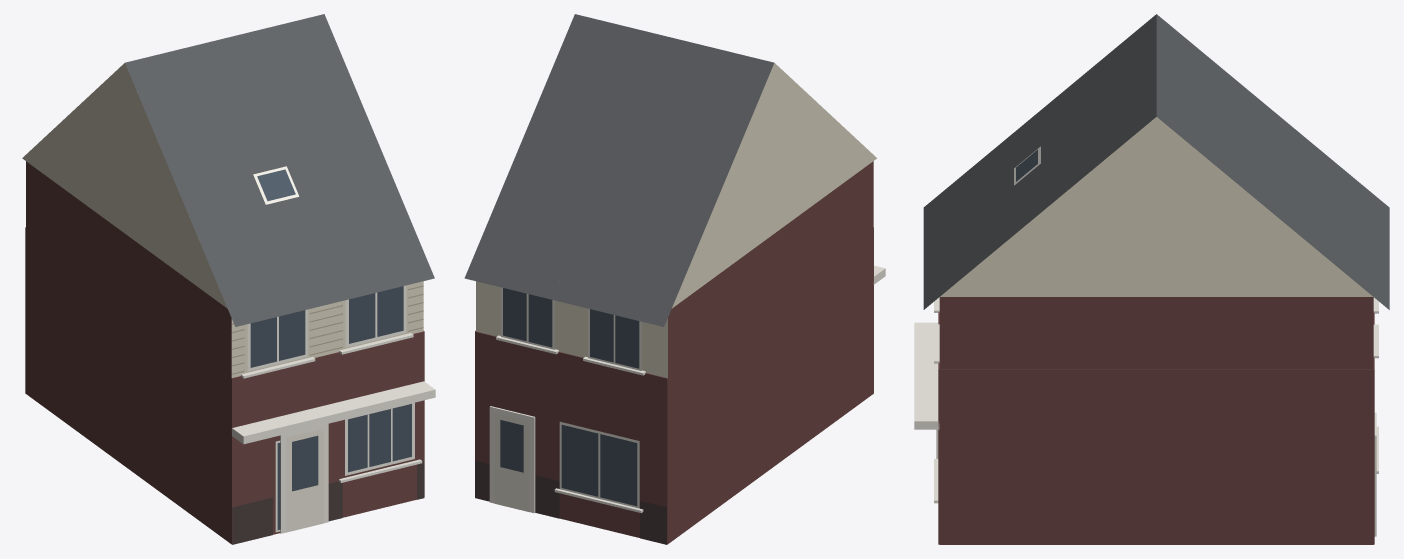
Rendered from th-gk-row__band__2__gable__long__solid__f0d0.glb.
The picture shows the model from 3 angles, left to right: view 1: azimuth 30°, elevation 25°; view 2: azimuth 150°, elevation 25°; view 3: azimuth 270°, elevation 25°; orthographic projection. The views are drawn at different scales.
Parts seen in each view (by area): view 1: th-gk-row__band__2__gable__long__solid__f0d0; view 2: th-gk-row__band__2__gable__long__solid__f0d0; view 3: th-gk-row__band__2__gable__long__solid__f0d0.
Part boxes in pixels (box(x1,y1,x2,y2)): th-gk-row__band__2__gable__long__solid__f0d0: box(22, 14, 435, 544); th-gk-row__band__2__gable__long__solid__f0d0: box(464, 14, 885, 544); th-gk-row__band__2__gable__long__solid__f0d0: box(914, 14, 1389, 544).
Bounding box in the file's own units: 5.28 × 10.3 × 10.32.
